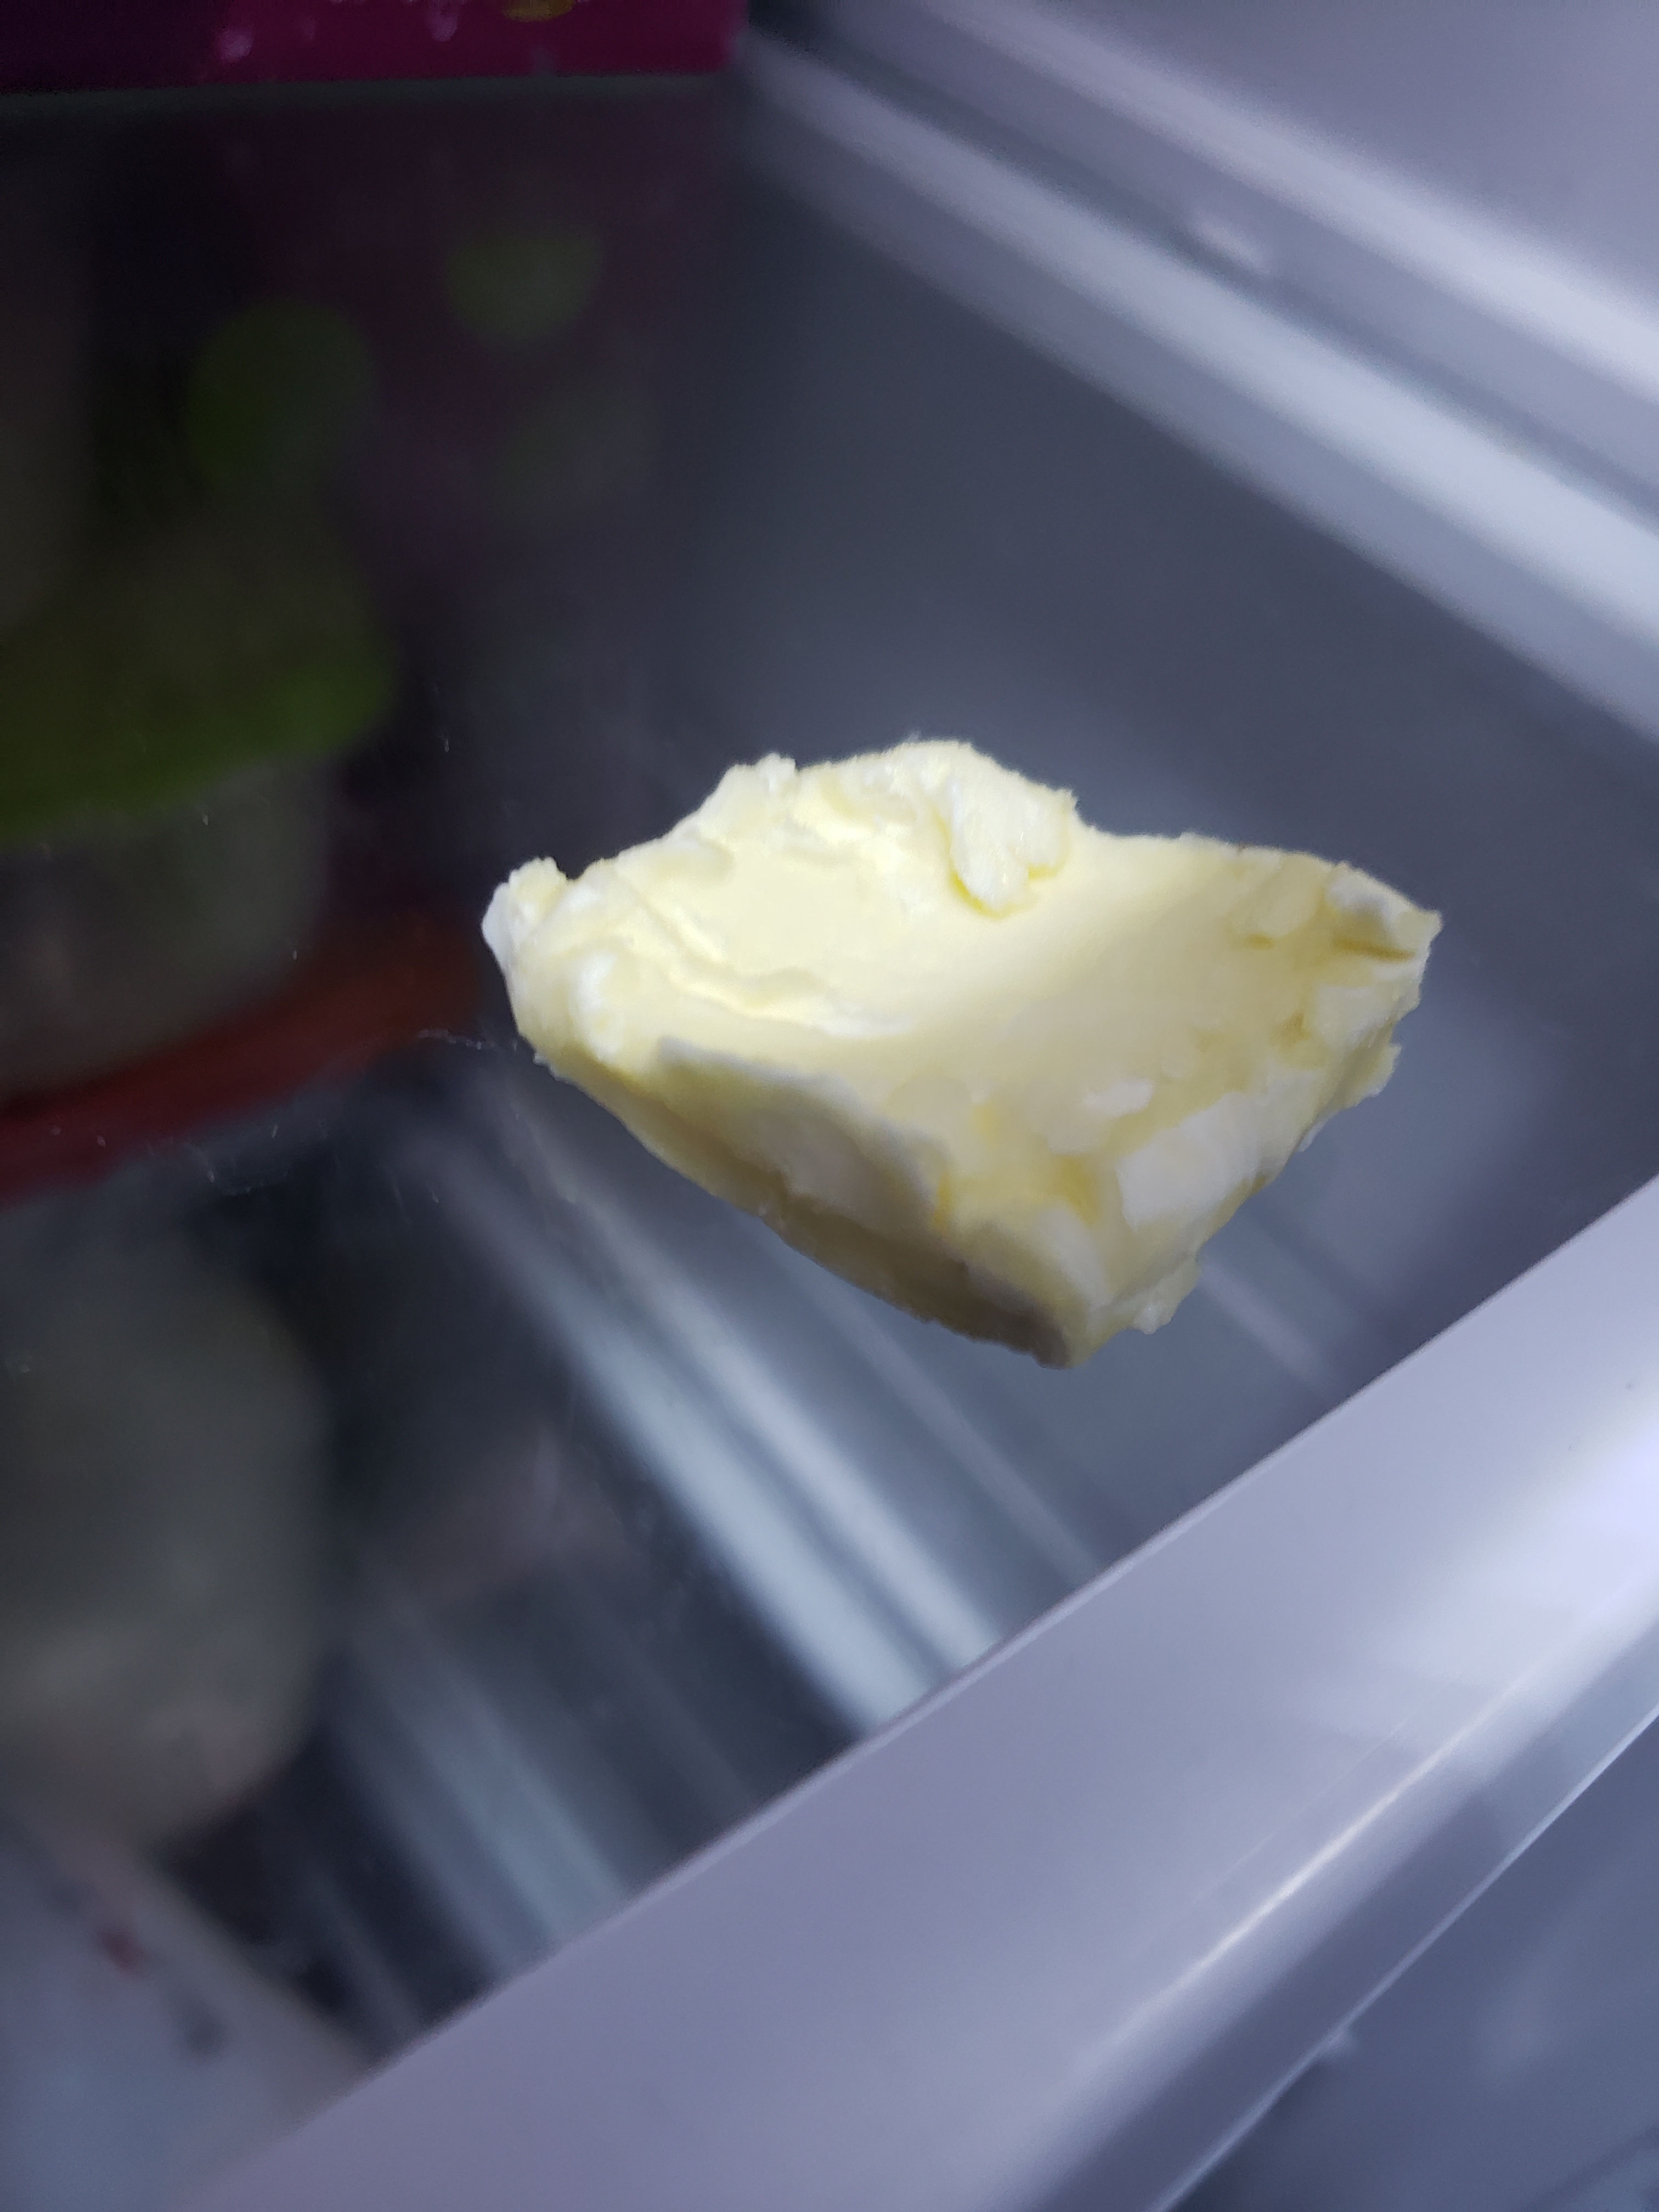Butter: (491, 738, 1434, 1353)
